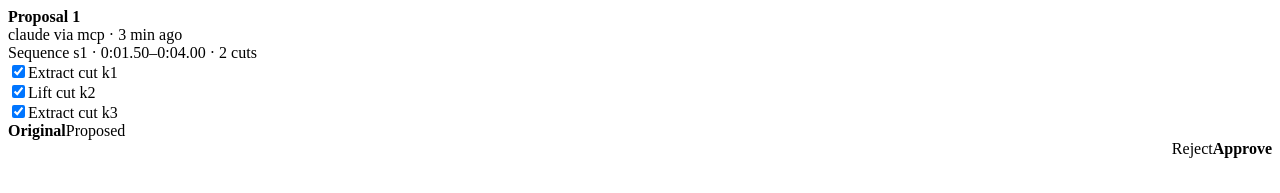
Test case: プレビューの失敗と順序 › 適用できなかったら理由を出し、Proposed を押していない表示に戻す
The image size is (1280, 193).
Click the button "Proposed": {"x": 96, "y": 131} x1=66 y1=122 x2=125 y2=140
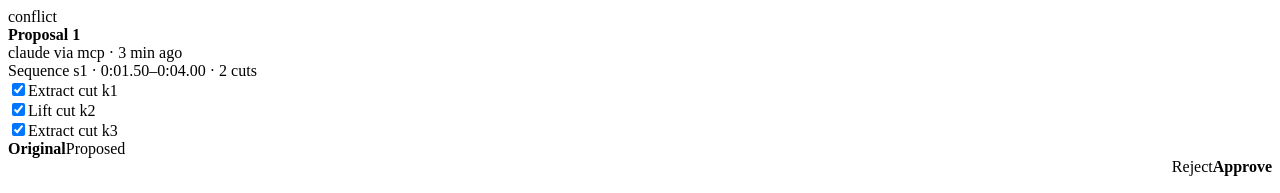
Check: the message with class "mm-review-error" reads "conflict", box x1=8 y1=8 x2=57 y2=25
